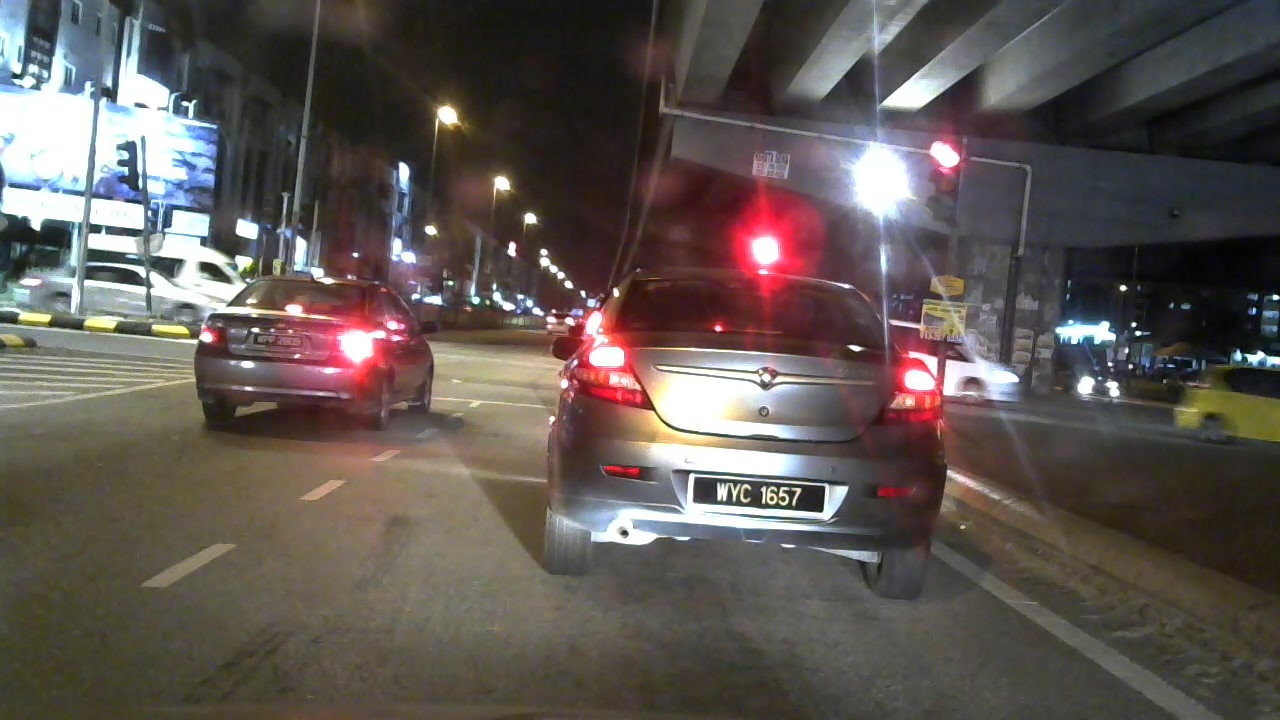Car: (529, 257, 946, 590), (181, 256, 439, 444), (18, 260, 212, 330), (886, 317, 1031, 410), (1172, 354, 1280, 442)
